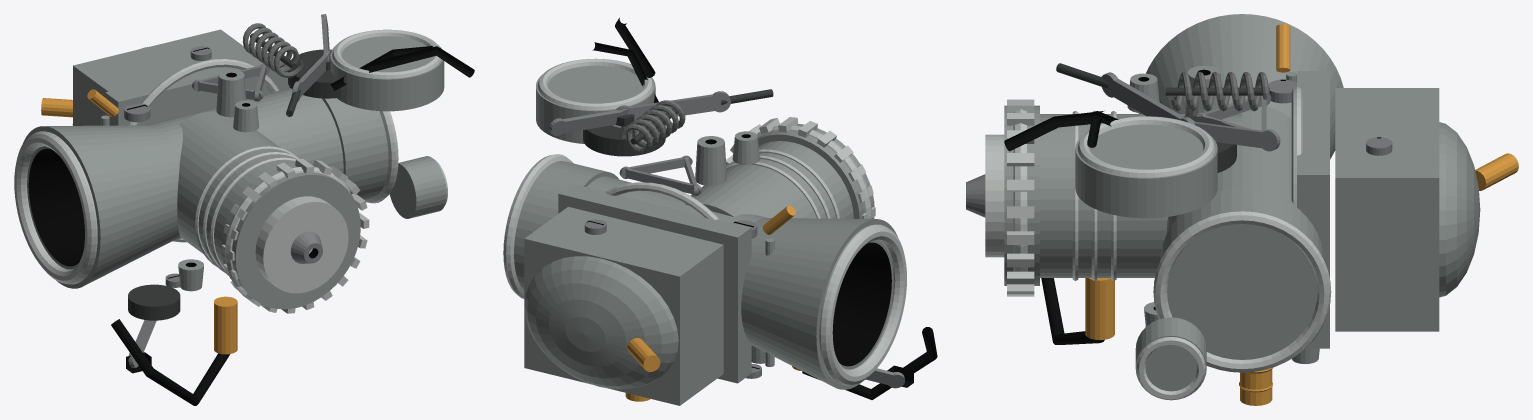
File: carb_03_turbo_vacuum_sidepod.obj
The picture shows the model from 3 angles, left to right: view 1: azimuth 30°, elevation 25°; view 2: azimuth 150°, elevation 25°; view 3: azimuth 270°, elevation 25°; orthographic projection. The views are drawn at different scales.
Parts seen in each view (by area): view 1: flared_bellmouth, vertical_slide_tower, top_cap_lower, top_cable_boss, float_bowl_upper_block, round_vacuum_diaphragm_case, main_venturi_body, flared_bellmouth_inner, rounded_bell_lip, rear_outlet_spigot, machined_base_plate, rear_pressure_capsule (+23 smaller); view 2: float_bowl_upper_block, float_bowl_rounded_lower, flared_bellmouth, machined_base_plate, vertical_slide_tower, flared_bellmouth_inner, rounded_bell_lip, round_vacuum_diaphragm_case, rear_outlet_spigot, diaphragm_crimp_ring, top_cap_lower, return_spring (+21 smaller); view 3: float_bowl_upper_block, rear_outlet_spigot, vertical_slide_tower, round_vacuum_diaphragm_case, flared_bellmouth, rear_outlet_bead, float_bowl_rounded_lower, machined_base_plate, main_venturi_body, rear_pressure_capsule, diaphragm_crimp_ring, top_cap_lower (+21 smaller).
Part boxes in pixels (x1,y1,x2,y2): flared_bellmouth: [47, 125, 179, 284]; vertical_slide_tower: [177, 111, 295, 266]; top_cap_lower: [221, 164, 360, 309]; top_cable_boss: [255, 196, 348, 293]; float_bowl_upper_block: [73, 29, 252, 125]; round_vacuum_diaphragm_case: [330, 36, 444, 111]; main_venturi_body: [147, 88, 343, 239]; flared_bellmouth_inner: [28, 148, 84, 266]; rounded_bell_lip: [14, 131, 97, 284]; rear_outlet_spigot: [289, 87, 388, 200]; machined_base_plate: [105, 56, 289, 125]; rear_pressure_capsule: [389, 156, 446, 218]; float_bowl_upper_block: [524, 207, 723, 405]; float_bowl_rounded_lower: [524, 256, 678, 389]; flared_bellmouth: [741, 218, 873, 387]; machined_base_plate: [558, 183, 751, 383]; vertical_slide_tower: [685, 141, 853, 218]; flared_bellmouth_inner: [832, 242, 891, 366]; rounded_bell_lip: [819, 224, 906, 385]; round_vacuum_diaphragm_case: [536, 65, 655, 143]; rear_outlet_spigot: [514, 161, 618, 290]; diaphragm_crimp_ring: [537, 58, 653, 110]; top_cap_lower: [758, 124, 874, 218]; return_spring: [620, 100, 685, 152]; float_bowl_upper_block: [1335, 88, 1439, 331]; rear_outlet_spigot: [1160, 188, 1324, 359]; vertical_slide_tower: [1040, 114, 1242, 277]; round_vacuum_diaphragm_case: [1075, 124, 1217, 218]; flared_bellmouth: [1138, 14, 1343, 159]; rear_outlet_bead: [1153, 211, 1331, 372]; float_bowl_rounded_lower: [1439, 122, 1480, 297]; machined_base_plate: [1297, 71, 1329, 348]; main_venturi_body: [1166, 103, 1295, 233]; rear_pressure_capsule: [1135, 317, 1206, 400]; diaphragm_crimp_ring: [1077, 116, 1215, 177]; top_cap_lower: [1004, 105, 1039, 285].
Bounding box in the file's own units: 0.1877 × 0.1516 × 0.2021.
